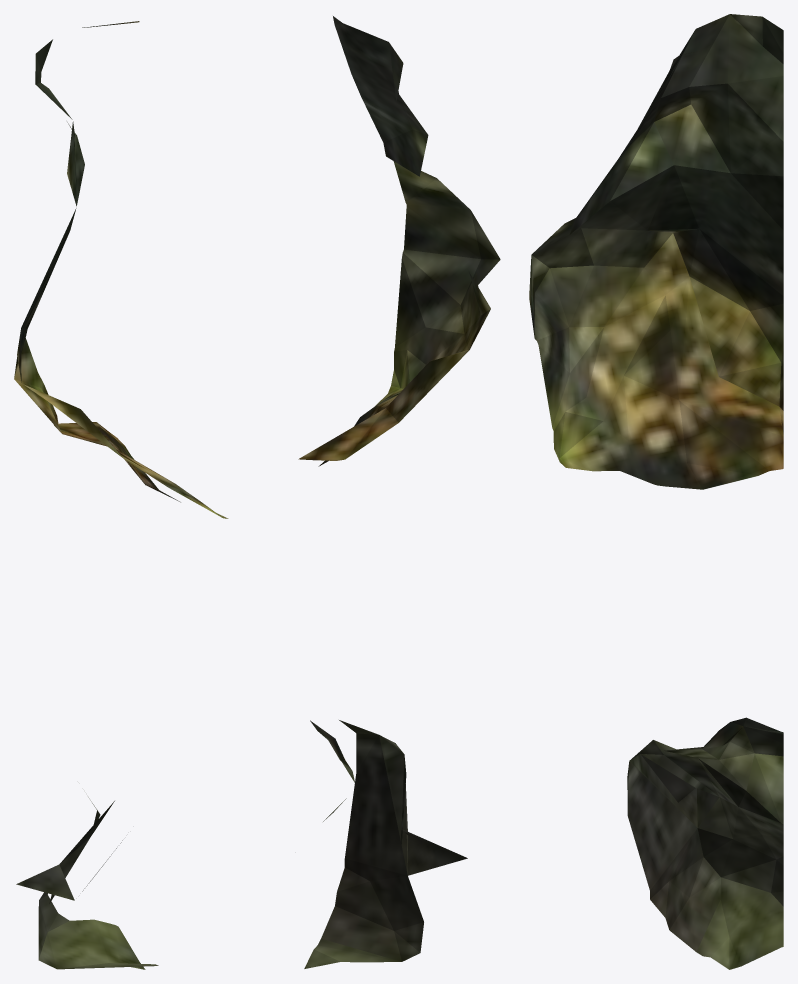
3 views of the same model, side by side, from view 1: azimuth 30°, elevation 25°; view 2: azimuth 150°, elevation 25°; view 3: azimuth 270°, elevation 25° (orthographic). The views are drawn at different scales.
Bounding box in the file's own units: 0.8352 × 4.8 × 1.19.
1 material, 1 textured.
